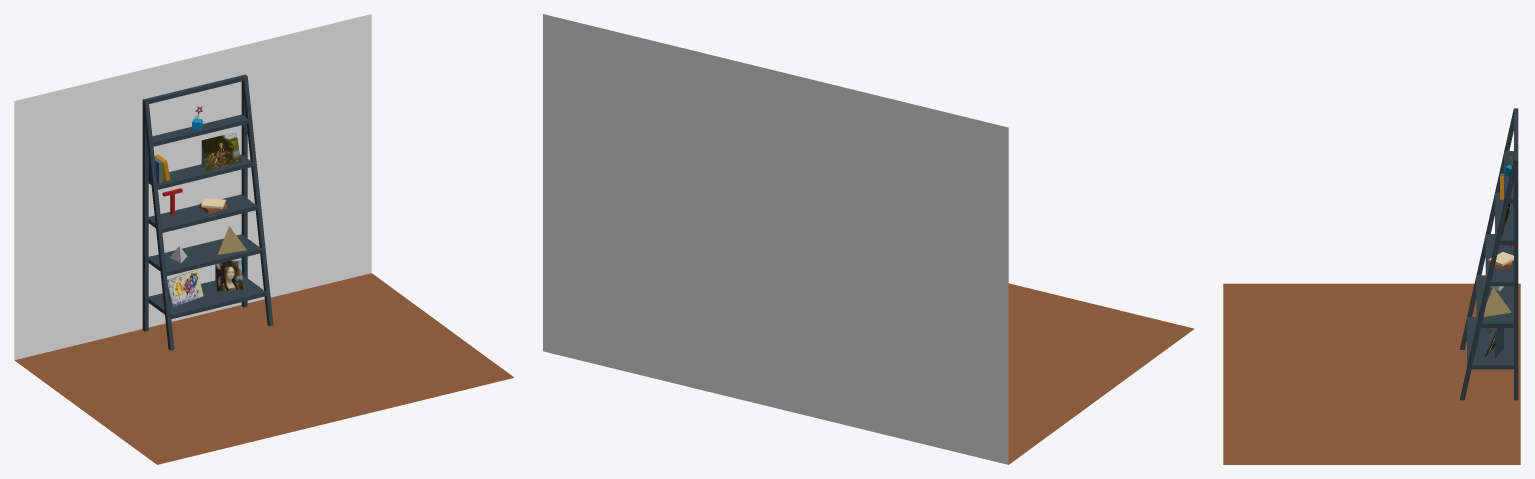
3 views of the same model, side by side, from view 1: azimuth 30°, elevation 25°; view 2: azimuth 150°, elevation 25°; view 3: azimuth 270°, elevation 25° (orthographic). The views are drawn at different scales.
Parts seen in each view (by area): view 1: Walls, Shelf, Shelf_1, Front, Shelf_2, Front_2, Back, Eakins, Shelf_3, Shelf_4, Kandinsky, Back_2 (+2 smaller); view 2: Walls; view 3: Walls, Shelf, Front_2, Back_2, Shelf_1, Front, Shelf_2, Shelf_3, Pyramid, Leonardo.
Boxes of the visible parts, x1,y1,x2,y2 form: Walls: (14,14,514,464); Shelf: (148,275,266,319); Shelf_1: (148,234,261,275); Front: (143,98,174,350); Shelf_2: (148,194,257,232); Front_2: (242,74,273,326); Back: (142,100,148,331); Eakins: (201,132,240,170); Shelf_3: (148,154,252,189); Shelf_4: (152,114,248,146); Kandinsky: (167,270,203,306); Back_2: (241,81,247,307); Walls: (543,14,1194,464); Walls: (1223,283,1520,464); Shelf: (1467,317,1513,369); Front_2: (1460,158,1518,400); Back_2: (1514,161,1518,400); Shelf_1: (1476,275,1513,327); Front: (1460,108,1518,349); Shelf_2: (1485,234,1513,286); Shelf_3: (1495,192,1513,244); Pyramid: (1483,287,1511,316); Leonardo: (1485,328,1503,358).
Size of the model in its own units: 1877 by 1300 by 1300.
Materials: 17 (3 with a texture image).
